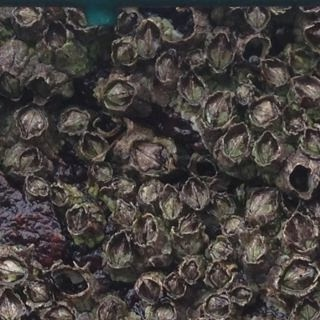Barnacle: (125, 140, 169, 175), (280, 256, 319, 292), (287, 214, 315, 250), (183, 178, 211, 214), (19, 106, 48, 140), (176, 70, 204, 103), (137, 21, 162, 56), (107, 231, 131, 267), (210, 33, 234, 69), (205, 94, 231, 126), (250, 190, 278, 219), (81, 133, 109, 162), (227, 126, 250, 160), (108, 81, 134, 110), (257, 134, 279, 167), (60, 109, 90, 133), (161, 185, 183, 217), (0, 257, 24, 286), (155, 54, 179, 83), (25, 279, 52, 304), (46, 20, 67, 51), (138, 215, 157, 249), (259, 60, 287, 83), (0, 292, 23, 319), (67, 205, 89, 233), (115, 200, 136, 229), (251, 99, 276, 123), (205, 294, 231, 317), (138, 177, 159, 205), (207, 264, 229, 290), (18, 147, 40, 173), (111, 40, 135, 63), (90, 163, 115, 185), (117, 10, 138, 36), (245, 233, 264, 261), (294, 76, 319, 97), (214, 193, 234, 218), (0, 71, 20, 96), (177, 215, 200, 236), (246, 5, 267, 28), (140, 278, 161, 300), (19, 1, 40, 23), (303, 128, 319, 156), (98, 297, 118, 319), (289, 53, 311, 73), (166, 275, 185, 298), (210, 237, 231, 257), (285, 109, 305, 130), (28, 175, 50, 194), (237, 80, 252, 106), (182, 261, 200, 281), (230, 287, 251, 304), (113, 178, 134, 195), (47, 306, 73, 319), (53, 184, 69, 205), (226, 218, 244, 236), (301, 302, 319, 319), (158, 303, 177, 319), (186, 51, 205, 66)
